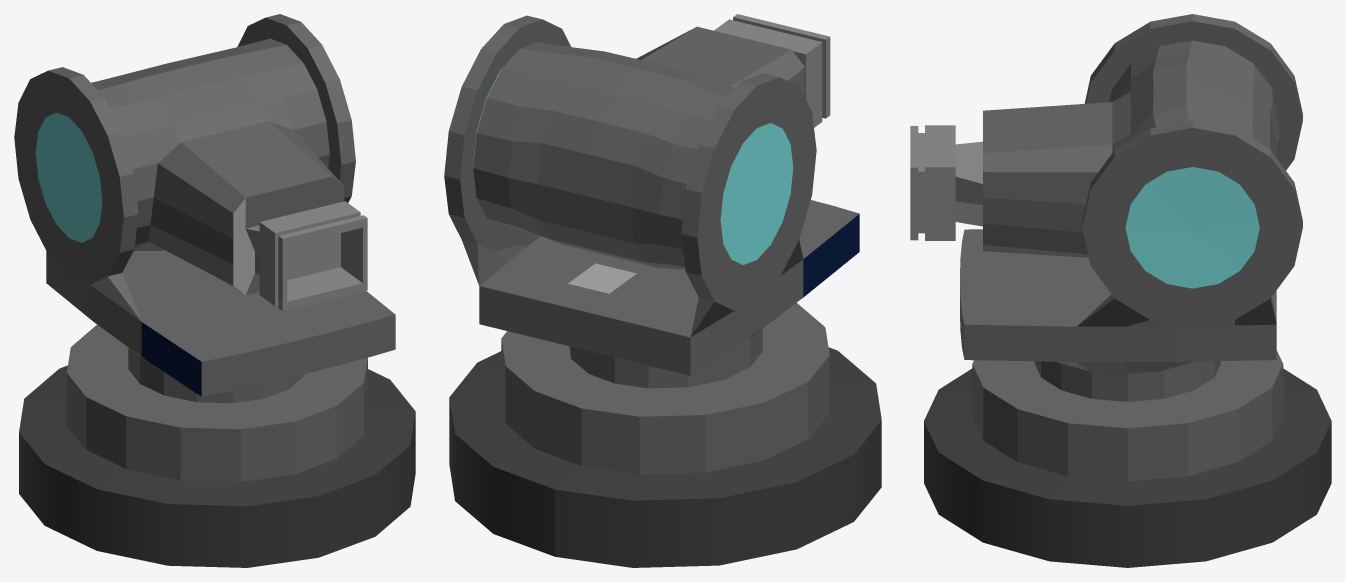
Rendered from ice_cannon.fbx.
3 views of the same model, side by side, from view 1: azimuth 30°, elevation 25°; view 2: azimuth 150°, elevation 25°; view 3: azimuth 270°, elevation 25° (orthographic). The views are drawn at different scales.
Visible parts, largest first — view 1: polySurface14, polySurface13, polySurface9; view 2: polySurface14, polySurface13, polySurface9; view 3: polySurface14, polySurface13, polySurface9.
Boxes of the visible parts, box(x1,y1,x2,y2) form: polySurface14: box(19, 324, 415, 567); polySurface13: box(14, 14, 395, 396); polySurface9: box(91, 38, 367, 310); polySurface14: box(449, 302, 881, 567); polySurface13: box(444, 15, 859, 375); polySurface9: box(473, 14, 830, 269); polySurface14: box(924, 350, 1331, 567); polySurface13: box(960, 14, 1302, 374); polySurface9: box(910, 40, 1280, 257).
Bounding box in the file's own units: 5.46 × 6.19 × 5.73.
